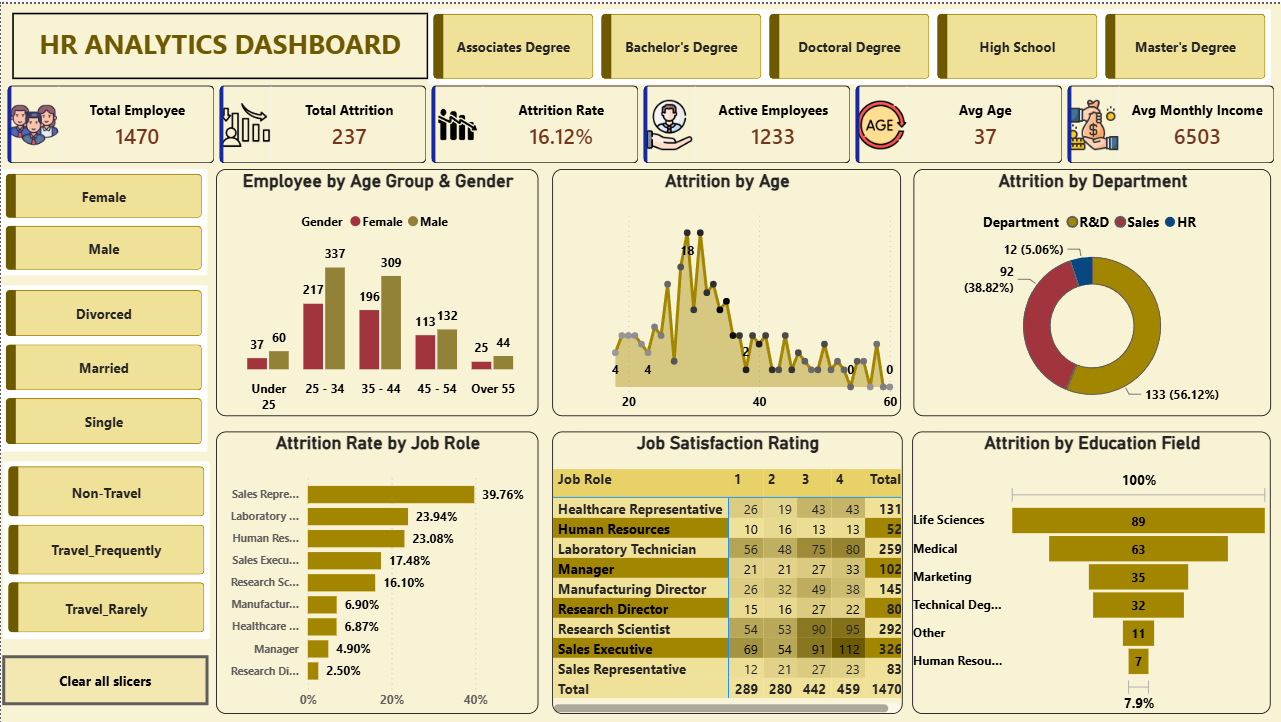

The dashboard page shown, as its layout file describes it:
{"tool":"powerbi","page":{"name":"Dashboard","canvas":[1280,720],"ordinal":0},"visuals":[{"type":"textbox","box":[11.2,8.8,416.2,66.2],"z":0},{"type":"cardVisual","title":"Total Employees","fields":{"Data":["HR data.Total Employee","HR data.Total Attrition","HR data.Attrition Rate","HR data.Active Employees","Avg(HR data.Age)","Avg(HR data.Monthly Income)"]},"box":[0,75,1280,90],"z":1000},{"type":"clusteredColumnChart","title":"Employee by Age Group & Gender","fields":{"Category":["HR data.Age Group"],"Y":["HR data.Total Employee"],"Series":["HR data.Gender"]},"box":[215,165,322.5,247.5],"z":2000},{"type":"areaChart","title":"Attrition by Age","fields":{"Category":["HR data.Age"],"Y":["HR data.Total Attrition"]},"box":[551.2,165,348.8,247.5],"z":3000},{"type":"donutChart","title":"Attrition by Department","fields":{"Category":["HR data.Department"],"Y":["HR data.Total Attrition"]},"box":[912.5,165,357.5,247.5],"z":4000},{"type":"clusteredBarChart","fields":{"Category":["HR data.Job Role"],"Y":["HR data.Attrition Rate"]},"box":[215,427.5,322.5,282.5],"z":5000},{"type":"pivotTable","title":"Job Satisfaction Rating","fields":{"Rows":["HR data.Job Role"],"Columns":["HR data.Job Satisfaction"],"Values":["HR data.Total Employee"]},"box":[551.2,427.5,350,282.5],"z":6000},{"type":"funnel","title":"Attrition by Education Field","fields":{"Category":["HR data.Education Field"],"Y":["HR data.Total Attrition"]},"box":[911.2,427.5,358.8,282.5],"z":7000},{"type":"advancedSlicerVisual","fields":{"Values":["HR data.Gender"]},"box":[0,165,206.2,106.2],"z":8000},{"type":"advancedSlicerVisual","fields":{"Values":["HR data.Marital Status"]},"box":[0,281.2,206.2,166.2],"z":9000},{"type":"advancedSlicerVisual","fields":{"Values":["HR data.Business Travel"]},"box":[2.5,457.5,206.2,177.5],"z":10000},{"type":"advancedSlicerVisual","fields":{"Values":["HR data.Education"]},"box":[427.5,5,842.5,75],"z":11000},{"type":"actionButton","box":[1.2,651.2,206.2,50],"z":12000}]}

Visuals, with their boxes in screenshot pixels (x1, y1, x2, y2), scaled from the page's 1280x720 canvas onto the 1281x722 screenshot:
textbox: <region>11, 9, 428, 75</region>
"Total Employees" cardVisual: <region>0, 75, 1280, 165</region>
"Employee by Age Group & Gender" clusteredColumnChart: <region>215, 165, 538, 414</region>
"Attrition by Age" areaChart: <region>552, 165, 901, 414</region>
"Attrition by Department" donutChart: <region>913, 165, 1271, 414</region>
clusteredBarChart - HR data.Job Role x HR data.Attrition Rate: <region>215, 429, 538, 712</region>
"Job Satisfaction Rating" pivotTable: <region>552, 429, 902, 712</region>
"Attrition by Education Field" funnel: <region>912, 429, 1271, 712</region>
advancedSlicerVisual - HR data.Gender: <region>0, 165, 206, 272</region>
advancedSlicerVisual - HR data.Marital Status: <region>0, 282, 206, 449</region>
advancedSlicerVisual - HR data.Business Travel: <region>3, 459, 209, 637</region>
advancedSlicerVisual - HR data.Education: <region>428, 5, 1271, 80</region>
actionButton: <region>1, 653, 208, 703</region>
